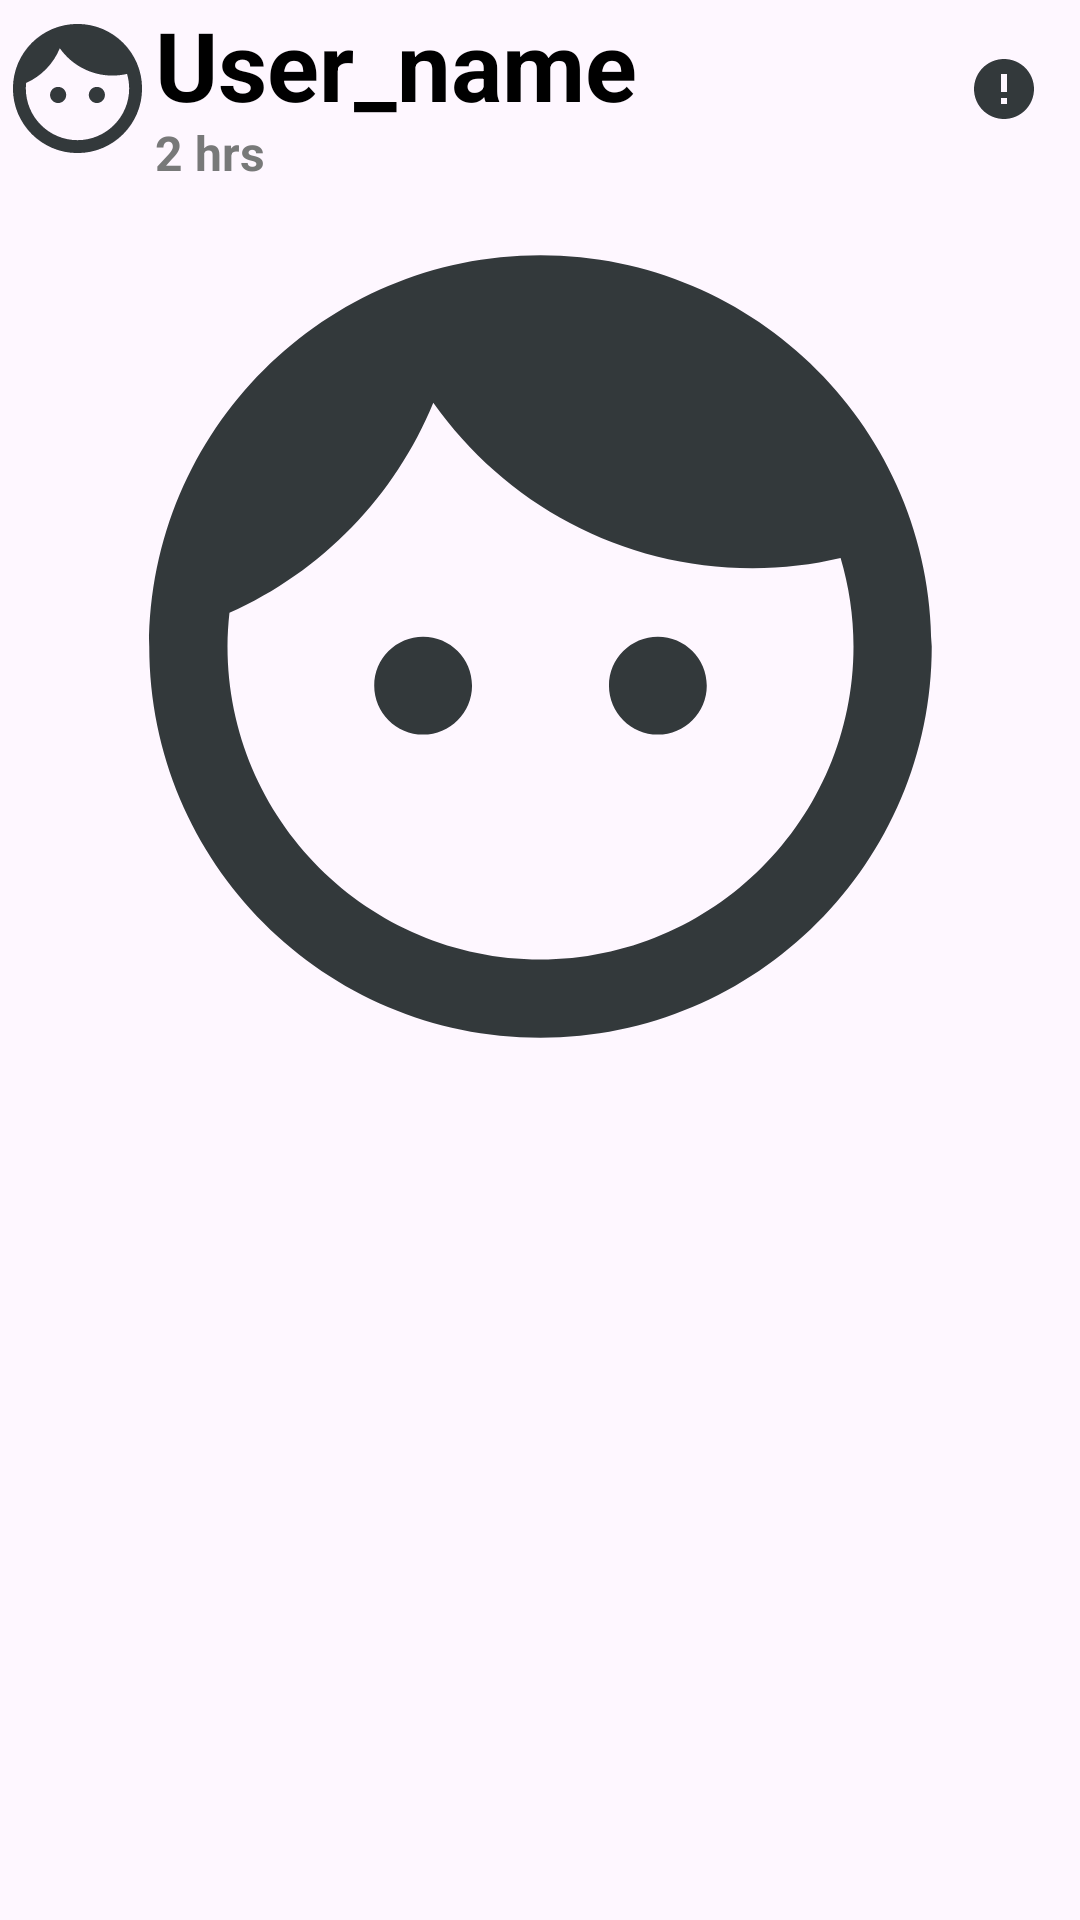

Named icons in this screenshot (1080 x 1920) and their centers, [x,y]:
error: [1004,89]
